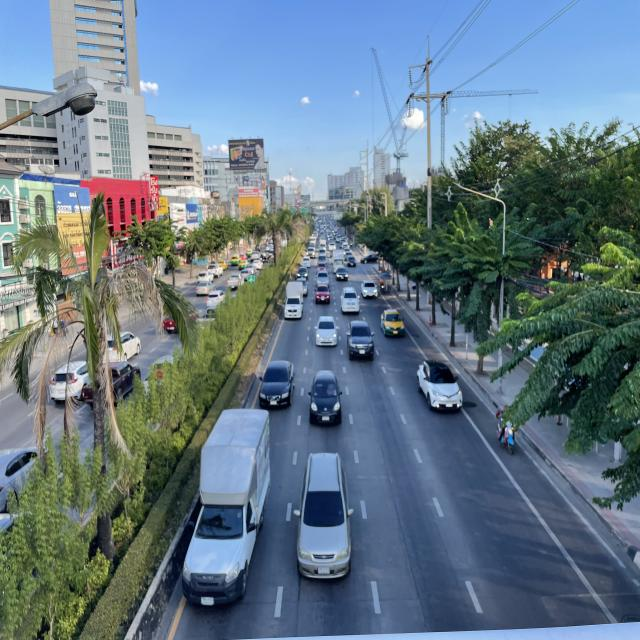bike: (496, 397, 518, 457)
car: (294, 450, 356, 586), (414, 359, 464, 414), (308, 369, 343, 427), (346, 319, 375, 362), (379, 307, 406, 338), (315, 316, 339, 348), (340, 286, 361, 316), (315, 282, 331, 306), (361, 280, 378, 299)
truck: (179, 408, 273, 612), (284, 282, 305, 322)
